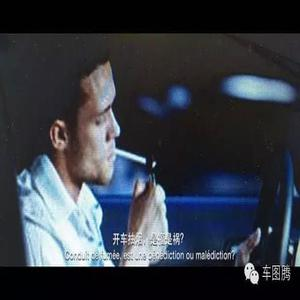cigarette: (115, 150, 147, 164)
